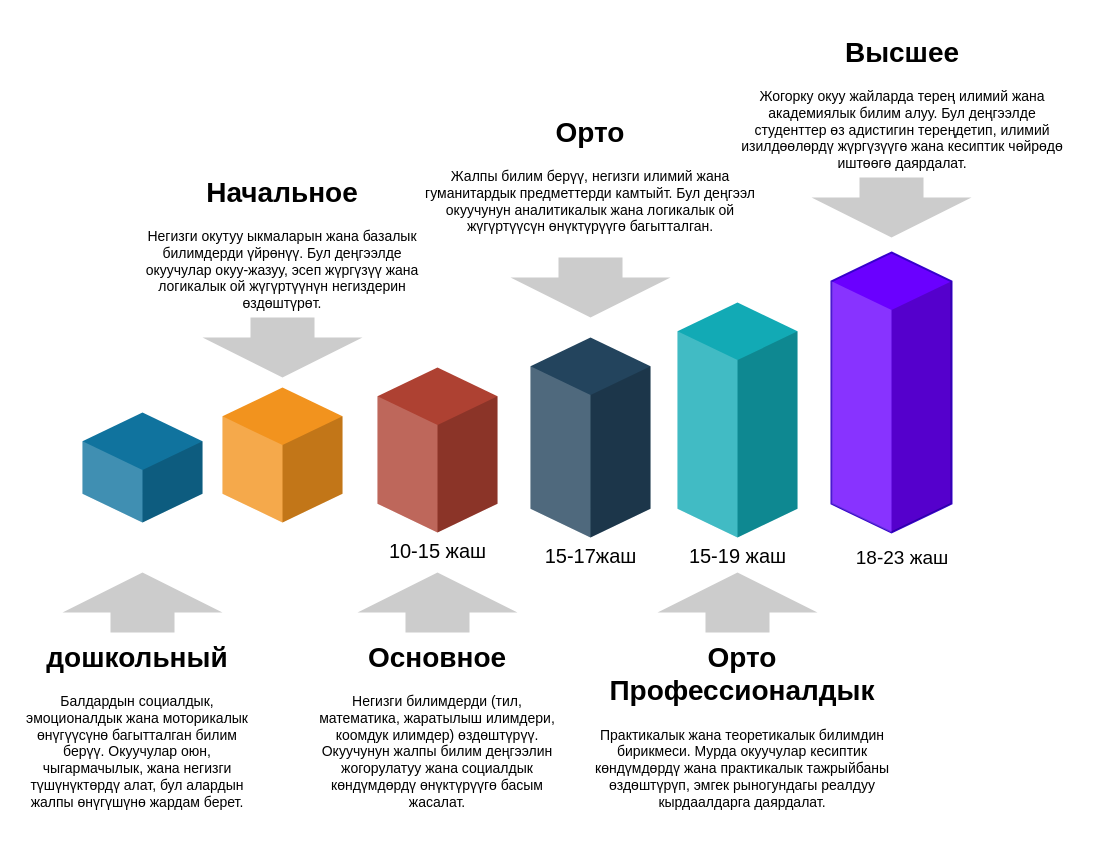
The diagram is 1104 pixels wide and 844 high, and some of its shapes have lost their labels. Here are the shapes that lost their labels. From the top down, the centre of each, then its label:
At point 142,467: "3-6 жаш".
At point 282,454: "6-10 жаш".
